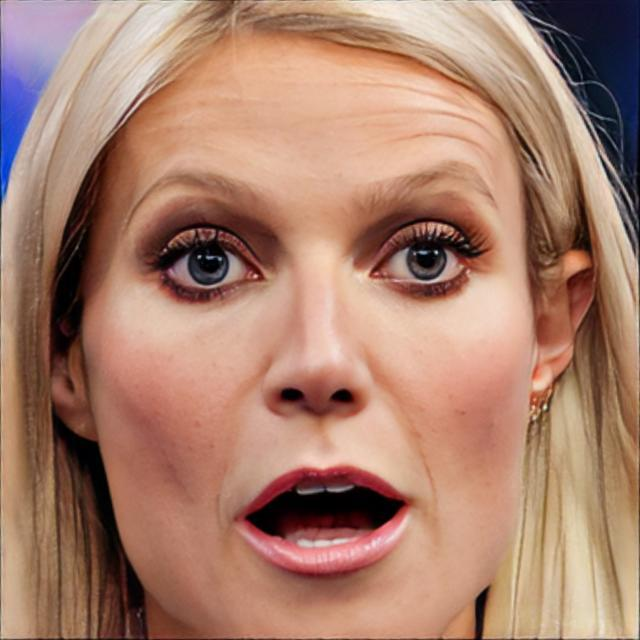surprise: (80, 20, 538, 640)
